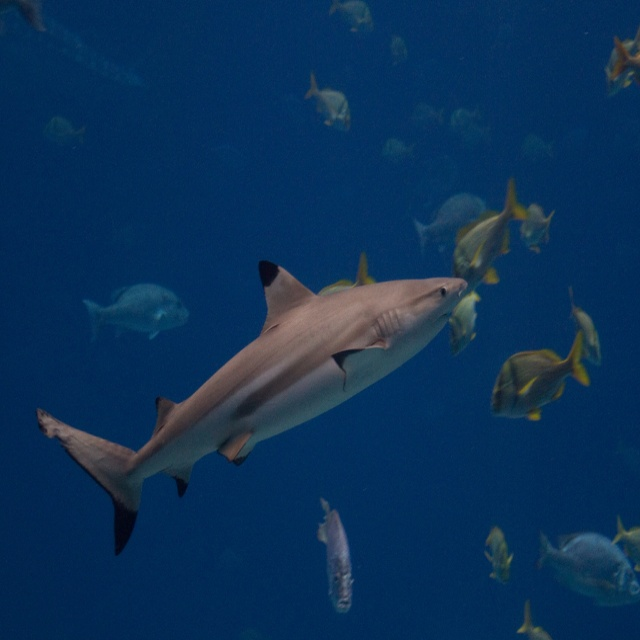Shark: (36, 259, 467, 555)
